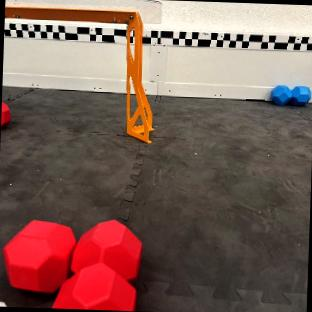V5_BLUE: (271, 86, 311, 106)
V5_RED: (3, 219, 141, 311), (1, 102, 11, 127)
